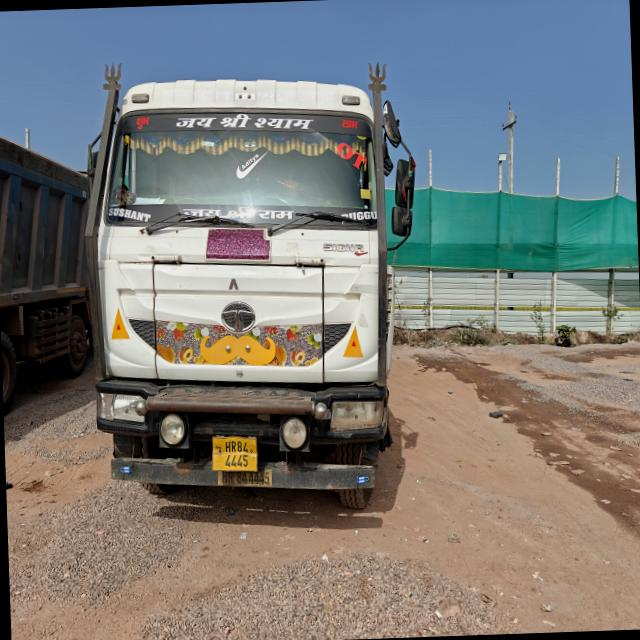license_plate: (213, 437, 257, 471), (219, 468, 271, 487)
